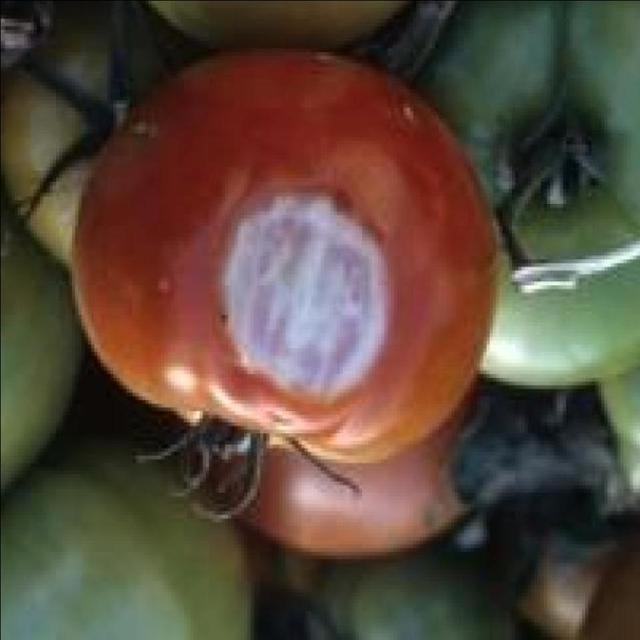Sunscald Fruit: (148, 123, 262, 274)
